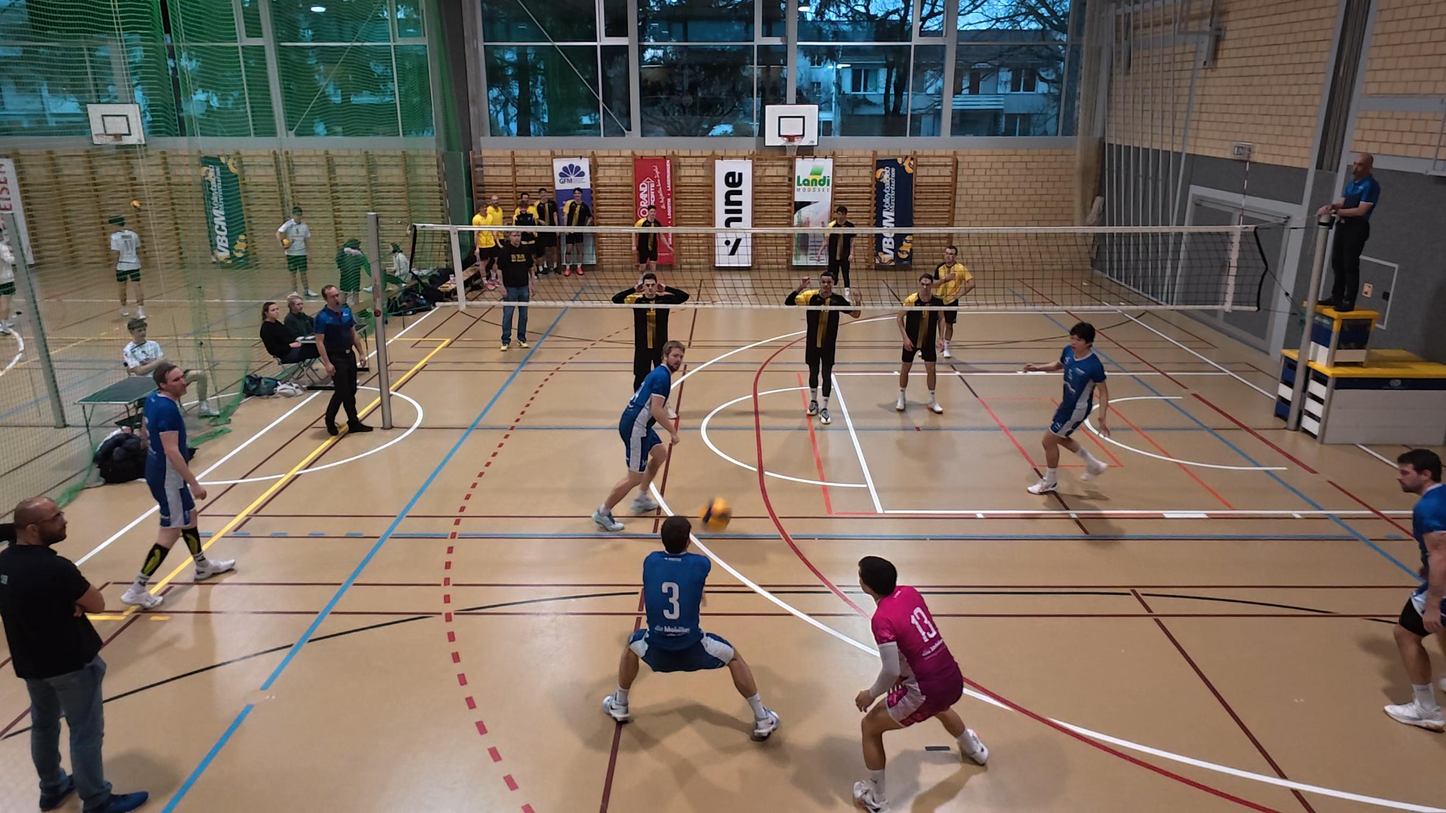Player: (852, 556, 990, 811), (120, 364, 235, 608), (592, 341, 685, 533), (1385, 447, 1446, 731), (1022, 320, 1109, 494), (784, 272, 861, 424), (612, 272, 692, 386), (891, 275, 944, 413), (934, 247, 973, 360), (824, 203, 859, 302)
Receive: (600, 515, 781, 741)
ball: (699, 495, 734, 532)
